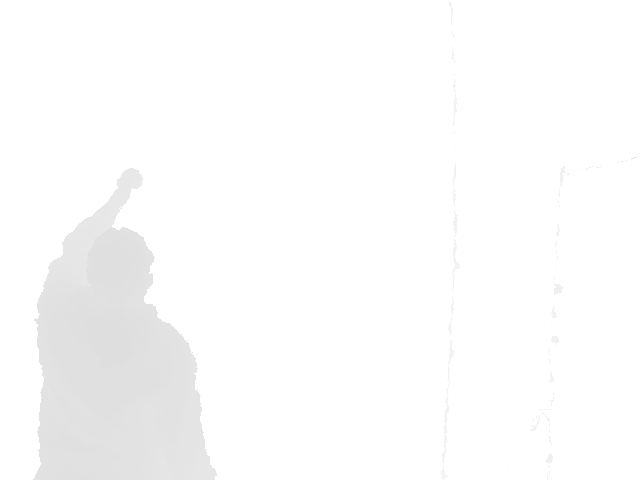hand: (114, 166, 143, 193)
head: (85, 226, 155, 309)
person: (32, 166, 219, 479)
